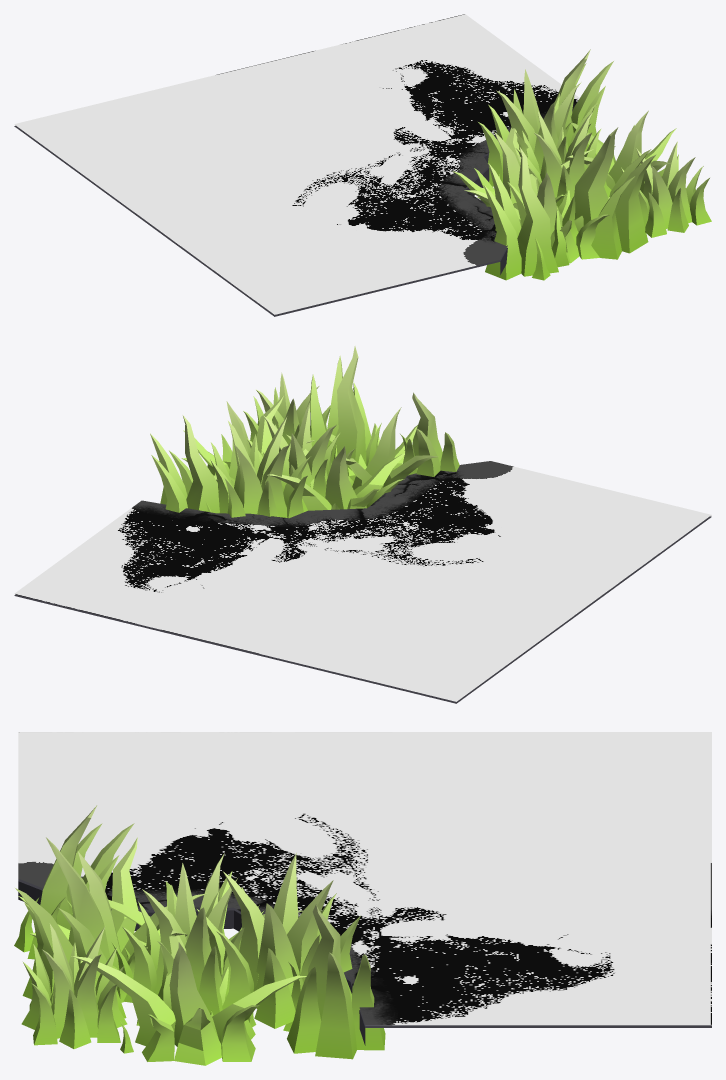
The model's file is Sag Alt Yesil.fbx.
3 renders of one model, top to bottom at view 1: azimuth 30°, elevation 25°; view 2: azimuth 150°, elevation 25°; view 3: azimuth 270°, elevation 25°, orthographic. The views are drawn at different scales.
Visible parts, largest first — view 1: sagaltyesil; view 2: sagaltyesil; view 3: sagaltyesil.
Part boxes in pixels (box(x1,y1,x2,y2)): sagaltyesil: box(14, 14, 711, 316); sagaltyesil: box(14, 346, 711, 703); sagaltyesil: box(14, 732, 711, 1065).
Bounding box in the file's own units: 209 × 52.6 × 201.
